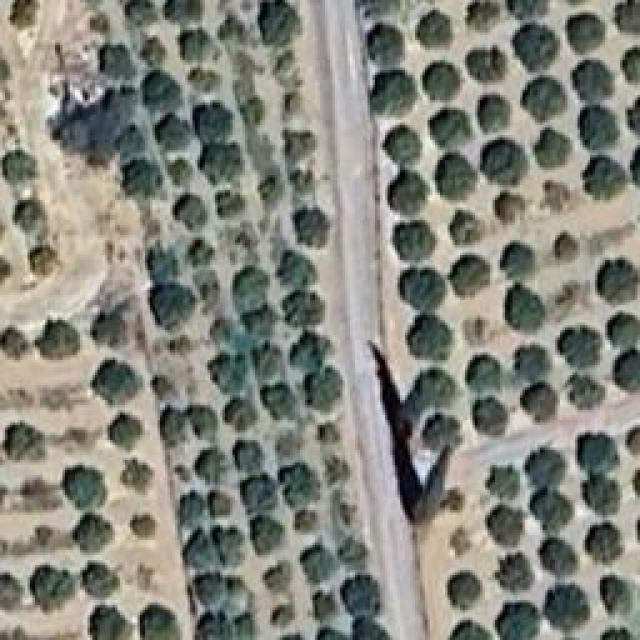Tree: (405, 368, 458, 418), (525, 488, 575, 537), (73, 125, 125, 171), (512, 23, 560, 72), (480, 137, 528, 185), (93, 360, 142, 406), (545, 585, 591, 633), (408, 315, 454, 361), (150, 283, 195, 330), (370, 70, 416, 115), (30, 565, 74, 612), (400, 268, 448, 311), (435, 152, 478, 200), (583, 155, 628, 200), (523, 77, 568, 121), (258, 0, 301, 46), (597, 257, 640, 303), (505, 283, 546, 331), (290, 330, 333, 375), (558, 328, 603, 371), (388, 170, 429, 217), (578, 433, 621, 476), (35, 320, 80, 361), (495, 602, 543, 640), (395, 220, 438, 262), (200, 143, 244, 184), (278, 464, 319, 508), (580, 105, 620, 150), (430, 108, 473, 149), (450, 255, 491, 298), (573, 60, 614, 103), (340, 575, 380, 619), (305, 363, 344, 408), (367, 23, 405, 69), (5, 422, 48, 462), (193, 103, 233, 146), (53, 110, 96, 150), (73, 513, 114, 554), (525, 448, 566, 489), (68, 468, 108, 510), (143, 70, 182, 113), (235, 268, 270, 315), (495, 553, 535, 594), (487, 505, 525, 548), (283, 290, 326, 328), (208, 354, 248, 394), (278, 250, 319, 289), (383, 125, 422, 166), (568, 13, 607, 54), (93, 302, 128, 347), (540, 538, 579, 578), (585, 523, 623, 564), (520, 383, 558, 424), (240, 475, 278, 515), (582, 475, 620, 515), (292, 207, 330, 247), (535, 128, 573, 168), (93, 90, 136, 125), (123, 160, 162, 198), (423, 413, 462, 451), (568, 373, 607, 410), (468, 48, 508, 84), (465, 355, 501, 395), (82, 563, 120, 600), (140, 605, 180, 640), (473, 398, 508, 438), (260, 382, 296, 420), (423, 63, 459, 101), (515, 345, 551, 383), (250, 515, 284, 555), (300, 545, 334, 585), (185, 530, 218, 571), (418, 10, 454, 47), (108, 413, 143, 451), (500, 243, 535, 281), (92, 607, 132, 640), (100, 45, 136, 81), (243, 303, 279, 339), (555, 283, 590, 320), (448, 573, 482, 611), (478, 95, 511, 134), (155, 115, 190, 151), (213, 528, 244, 568), (450, 210, 485, 245), (607, 312, 640, 349), (600, 575, 631, 614), (223, 578, 253, 618), (173, 196, 208, 230), (485, 465, 519, 500), (3, 150, 39, 183), (148, 245, 179, 283), (15, 200, 44, 240), (225, 398, 259, 432), (185, 405, 218, 440), (253, 343, 283, 381), (195, 448, 226, 484), (193, 270, 219, 312), (615, 350, 640, 393), (468, 0, 502, 31), (160, 408, 186, 448), (180, 30, 211, 63), (285, 130, 316, 163), (495, 193, 526, 226), (118, 125, 147, 160), (233, 440, 264, 472), (123, 460, 153, 493), (195, 612, 228, 640), (30, 245, 59, 276), (263, 563, 292, 594), (0, 328, 28, 360), (198, 575, 225, 608), (180, 494, 206, 528), (125, 0, 158, 26), (165, 0, 204, 22), (352, 617, 389, 640), (10, 0, 40, 28), (217, 15, 245, 45), (338, 537, 368, 565), (258, 175, 283, 208), (615, 0, 640, 33), (450, 620, 491, 640), (507, 0, 550, 19), (0, 572, 22, 609), (273, 55, 300, 85), (215, 193, 245, 219), (275, 430, 301, 460), (188, 237, 214, 267), (545, 184, 571, 214), (188, 68, 219, 93), (233, 223, 258, 254), (357, 0, 402, 17), (143, 38, 168, 68), (555, 233, 580, 263), (313, 590, 337, 621), (325, 455, 350, 484), (168, 158, 193, 186), (208, 490, 233, 518), (240, 98, 265, 126), (153, 375, 178, 401), (233, 613, 257, 640), (622, 48, 640, 83), (210, 318, 233, 344), (443, 488, 467, 512), (290, 170, 314, 194), (465, 320, 488, 345), (450, 528, 470, 556), (133, 515, 157, 538), (273, 603, 297, 626), (295, 510, 318, 534), (318, 423, 341, 445), (627, 97, 640, 134), (137, 565, 155, 591), (317, 627, 352, 640), (168, 335, 192, 353), (625, 428, 640, 456), (90, 14, 110, 34), (630, 147, 640, 187), (600, 628, 633, 640), (285, 93, 301, 117), (340, 503, 356, 527), (35, 525, 53, 546), (0, 258, 11, 284), (0, 57, 9, 83), (178, 465, 191, 482), (632, 470, 640, 497), (280, 633, 305, 640), (637, 517, 640, 542)
